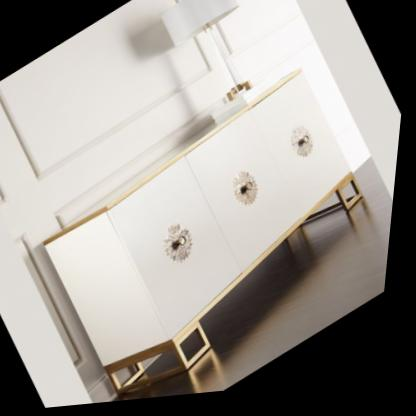Sideboard: (48, 76, 369, 397)
